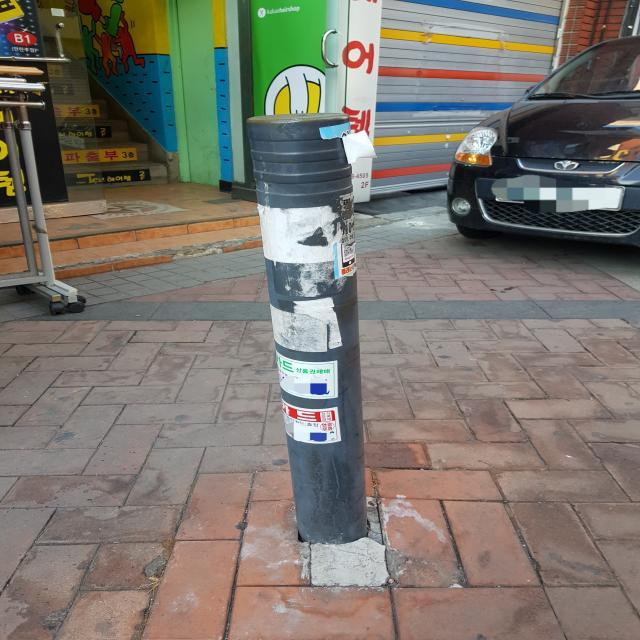pole: (250, 110, 372, 548)
